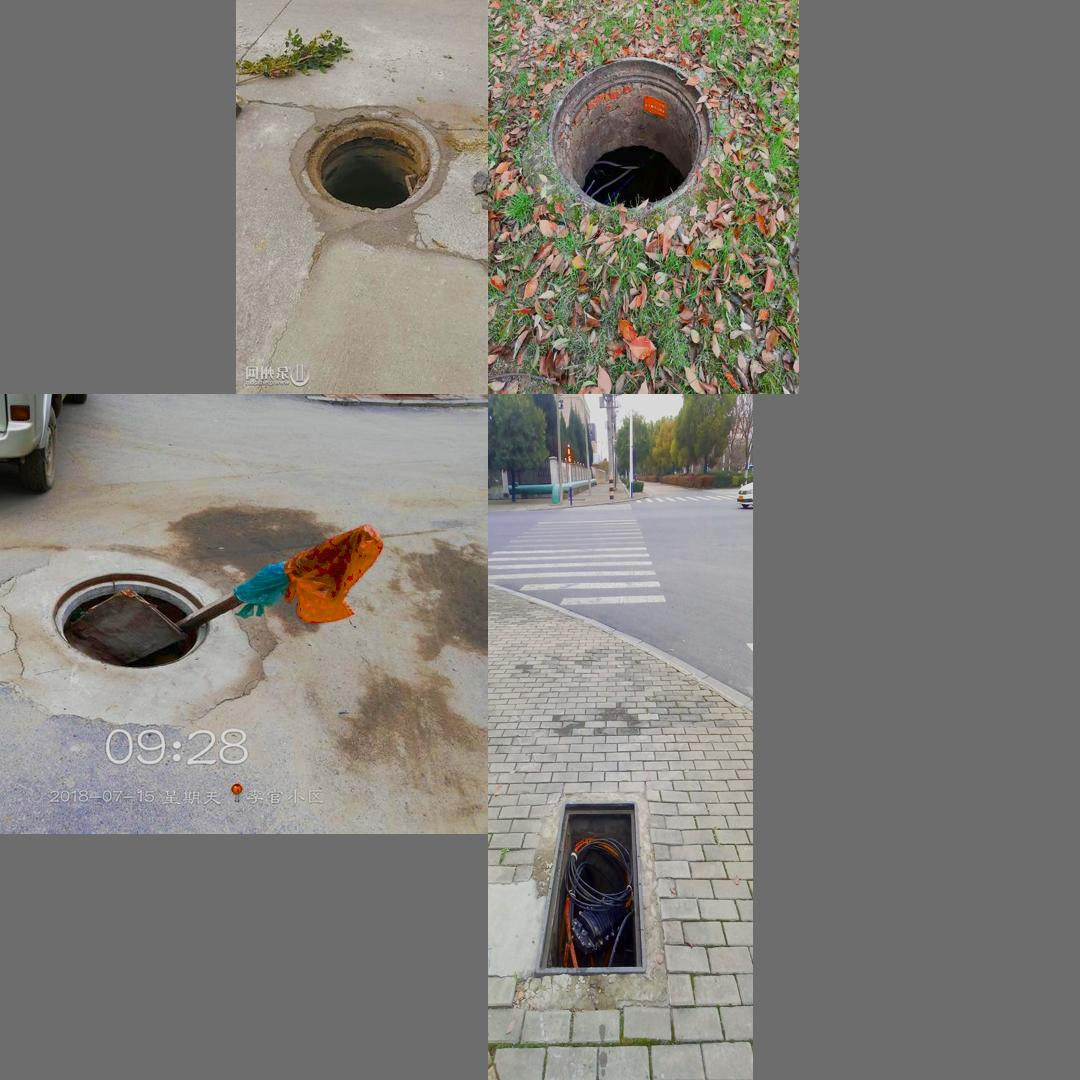lose: (526, 786, 674, 1017), (548, 55, 714, 214), (24, 561, 225, 680), (285, 102, 453, 219)
